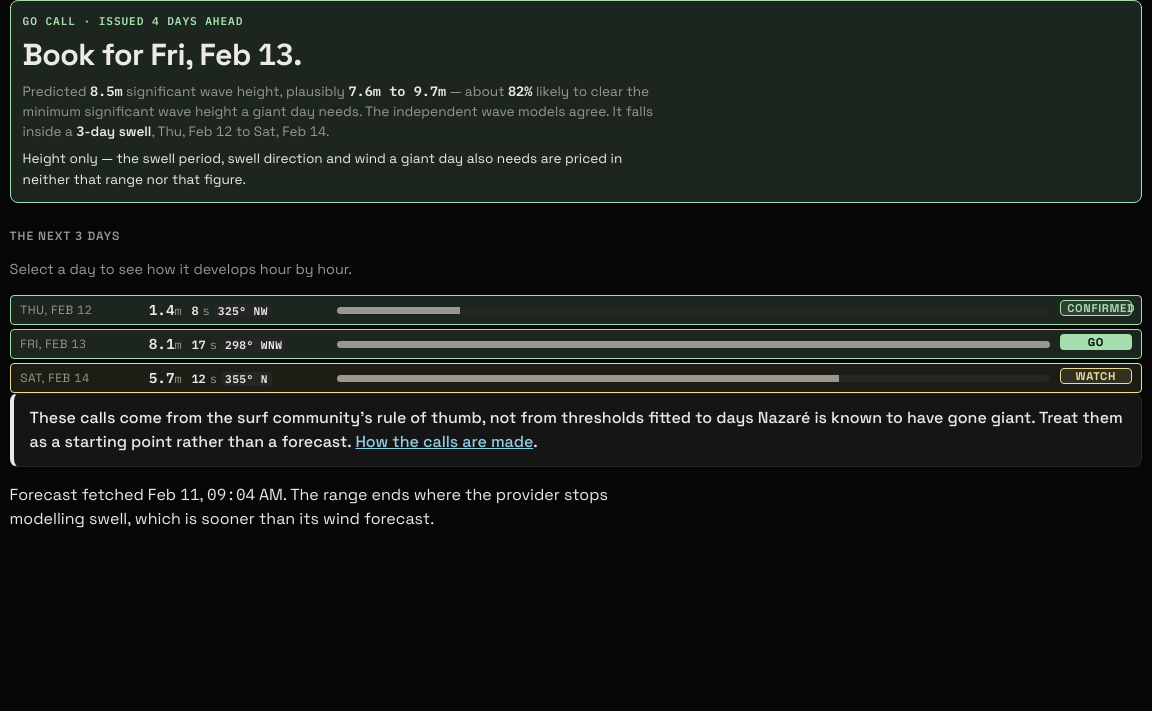
it: calls › says the predicted height is the offshore figure carried through unchanged
The width and height of the screenshot is (1152, 711).
Click the button with aria-label "2026-02-13". click: click(576, 344)
box: [10,329,1142,359]
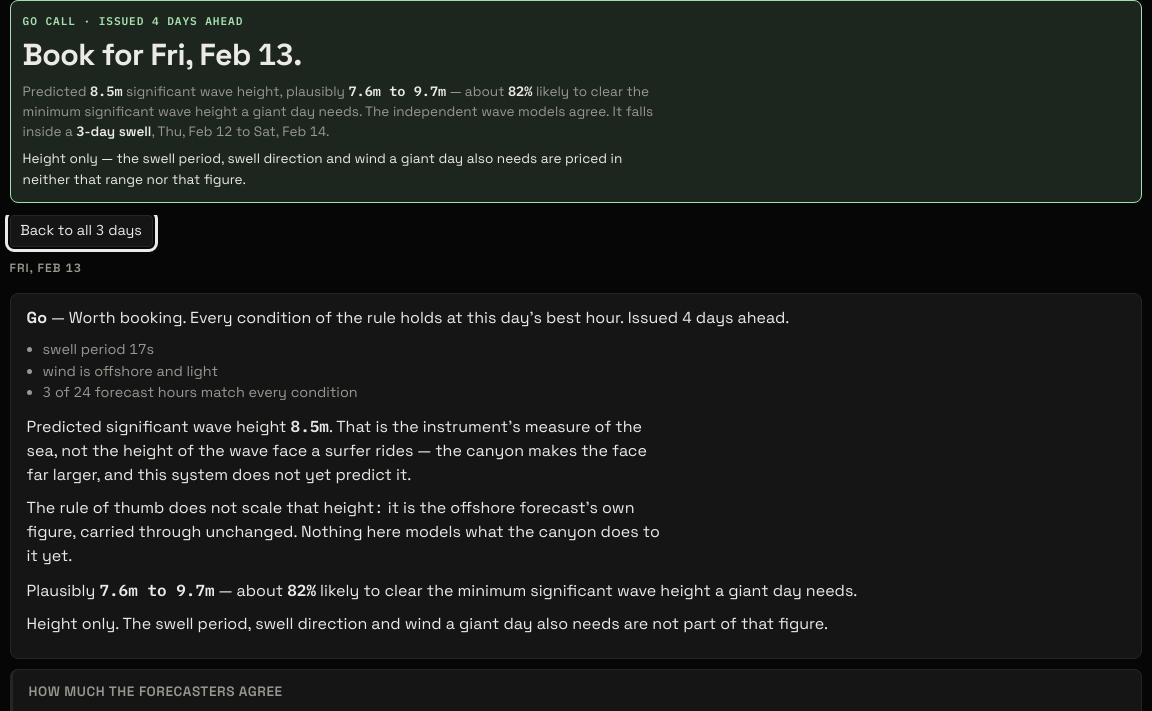
Now the element named "Why Fri, Feb 13" shows "carried through unchanged", box [27,497,660,566]
